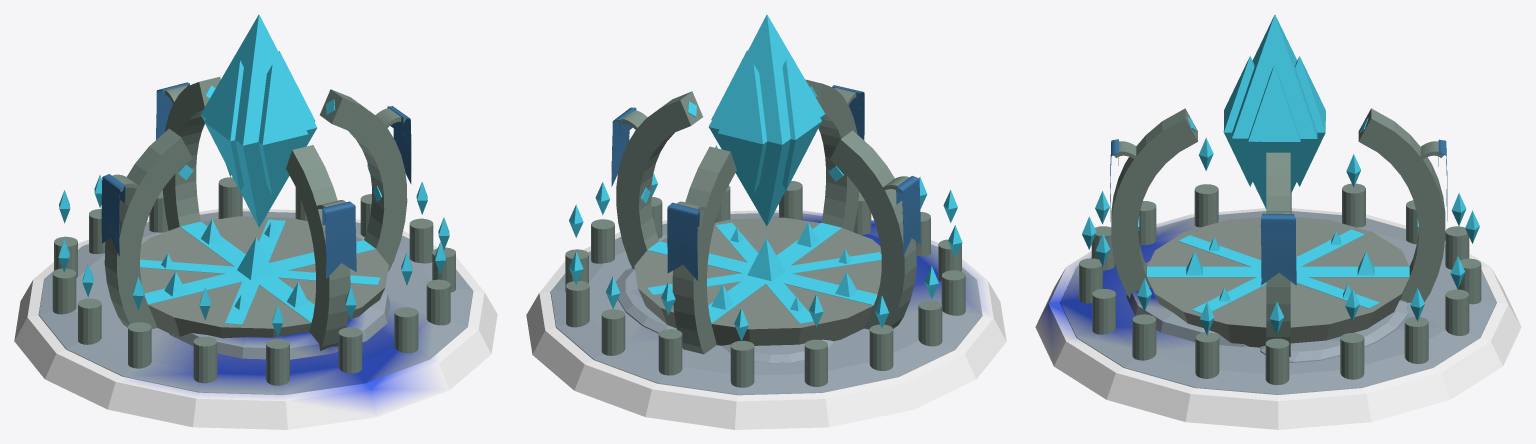
The model's file is IceTower-lvl3.fbx.
3 views of the same model, side by side, from view 1: azimuth 30°, elevation 25°; view 2: azimuth 150°, elevation 25°; view 3: azimuth 270°, elevation 25° (orthographic).
Parts seen in each view (by area): view 1: Цилиндр, Цилиндр.018, Цилиндр.001, Cone.001, Куб, Куб.001, Куб.013, Куб.012, Cone.027, Цилиндр.019, Cone.030, Plane.009_feather_0.003 (+22 smaller); view 2: Цилиндр, Цилиндр.018, Цилиндр.001, Cone.001, Куб, Куб.001, Куб.012, Куб.013, Cone.028, Cone.030, Plane.009_feather_0.002, Куб.014 (+23 smaller); view 3: Цилиндр, Цилиндр.018, Цилиндр.001, Куб.012, Куб.013, Cone.001, Cone.029, Куб.001, Куб.015, Plane.009_feather_0.001, Цилиндр.021, Цилиндр.019 (+19 smaller).
Part boxes in pixels (x1,y1,x2,y2): Цилиндр: [14, 208, 497, 429]; Цилиндр.018: [38, 211, 473, 394]; Цилиндр.001: [140, 216, 388, 338]; Cone.001: [200, 14, 317, 227]; Куб: [104, 128, 191, 328]; Куб.001: [320, 89, 407, 271]; Куб.013: [286, 145, 350, 350]; Куб.012: [162, 76, 220, 230]; Cone.027: [258, 64, 308, 195]; Цилиндр.019: [169, 290, 390, 359]; Cone.030: [204, 60, 243, 191]; Plane.009_feather_0.003: [322, 201, 356, 278]; Цилиндр: [526, 210, 1006, 429]; Цилиндр.018: [550, 212, 982, 395]; Цилиндр.001: [634, 217, 881, 345]; Cone.001: [708, 14, 824, 226]; Куб: [830, 130, 916, 329]; Куб.001: [616, 91, 702, 268]; Куб.012: [672, 146, 736, 354]; Куб.013: [805, 79, 859, 232]; Cone.028: [718, 64, 767, 194]; Cone.030: [782, 60, 821, 190]; Plane.009_feather_0.002: [667, 202, 699, 280]; Куб.014: [647, 241, 877, 305]; Цилиндр: [1035, 208, 1521, 429]; Цилиндр.018: [1060, 211, 1496, 394]; Цилиндр.001: [1147, 217, 1409, 347]; Куб.012: [1358, 108, 1445, 302]; Куб.013: [1111, 108, 1197, 298]; Cone.001: [1232, 14, 1317, 208]; Cone.029: [1248, 65, 1300, 178]; Куб.001: [1266, 152, 1290, 356]; Куб.015: [1147, 266, 1409, 277]; Plane.009_feather_0.001: [1260, 213, 1296, 285]; Цилиндр.021: [1260, 300, 1407, 362]; Цилиндр.019: [1126, 261, 1248, 347].
Bounding box in the file's own units: 783 × 558 × 783.
